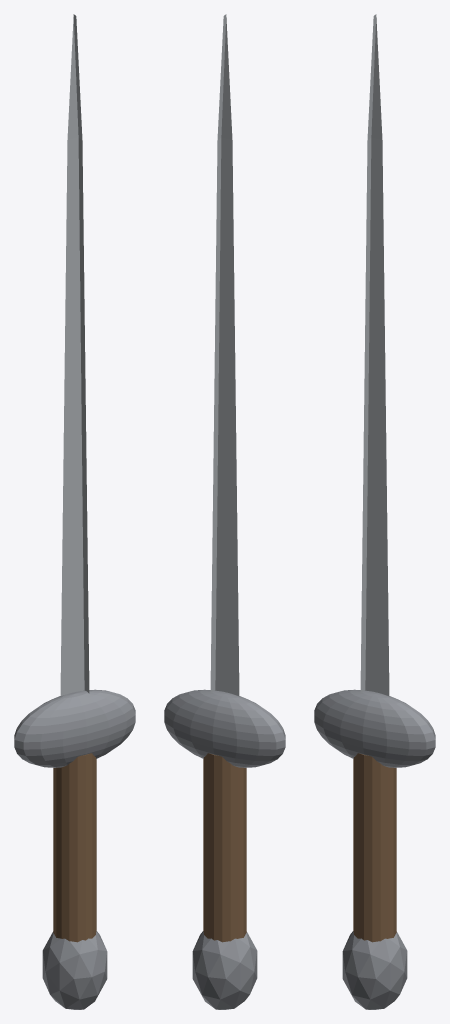
Rendered from rapier.glb.
3 renders of one model, left to right at view 1: azimuth 30°, elevation 25°; view 2: azimuth 150°, elevation 25°; view 3: azimuth 330°, elevation 25°, orthographic.
Visible parts, largest first — view 1: sword_0_0, sword_0_2, sword_0_1, sword_0_3; view 2: sword_0_0, sword_0_2, sword_0_1, sword_0_3; view 3: sword_0_0, sword_0_2, sword_0_1, sword_0_3.
Boxes of the visible parts, x1,y1,x2,y2 form: sword_0_0: [60, 14, 89, 695]; sword_0_2: [53, 753, 96, 942]; sword_0_1: [14, 689, 135, 767]; sword_0_3: [42, 931, 107, 1009]; sword_0_0: [210, 14, 239, 695]; sword_0_2: [203, 753, 246, 942]; sword_0_1: [164, 689, 285, 767]; sword_0_3: [192, 931, 257, 1009]; sword_0_0: [360, 14, 389, 695]; sword_0_2: [353, 753, 396, 942]; sword_0_1: [314, 689, 435, 767]; sword_0_3: [342, 931, 407, 1009].
Size of the model in its own units: 0.5161 by 4.05 by 0.2503.
